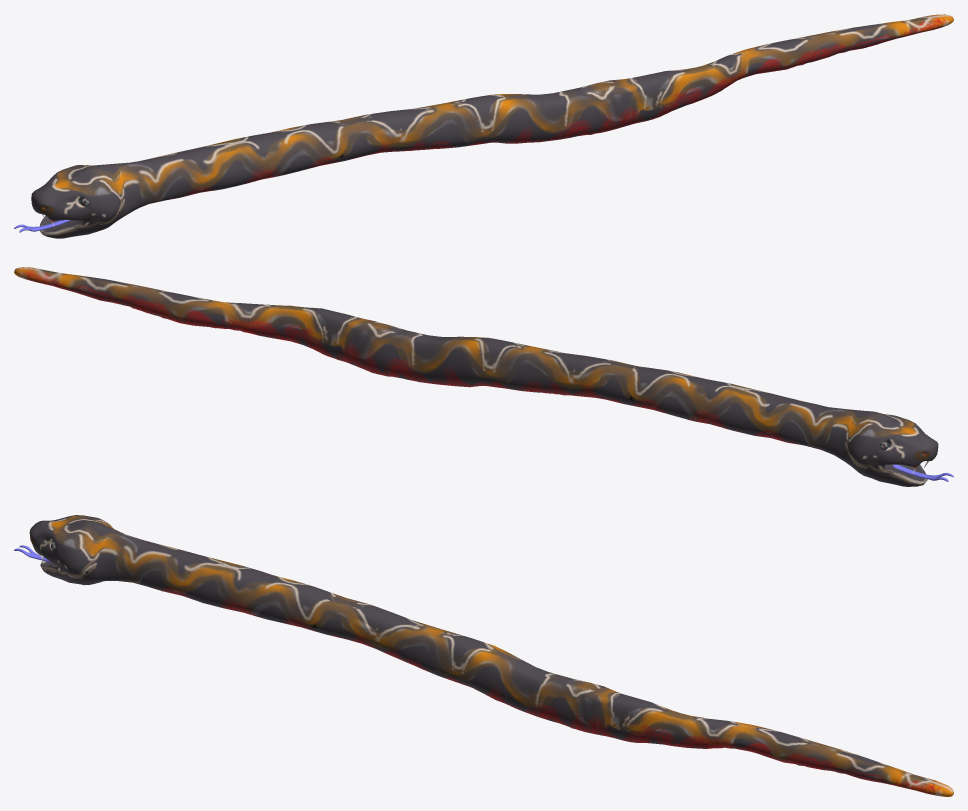
The model's file is halfway.obj.
3 views of the same model, one above another, from view 1: azimuth 30°, elevation 25°; view 2: azimuth 150°, elevation 25°; view 3: azimuth 330°, elevation 25° (orthographic).
Visible parts, largest first — view 1: body_Mesh.002; view 2: body_Mesh.002; view 3: body_Mesh.002.
Part boxes in pixels (bbox=[...]): body_Mesh.002: bbox=[31, 14, 953, 238]; body_Mesh.002: bbox=[14, 267, 938, 486]; body_Mesh.002: bbox=[29, 515, 953, 796].
Size of the model in its own units: 145 by 12.41 by 10.13.
